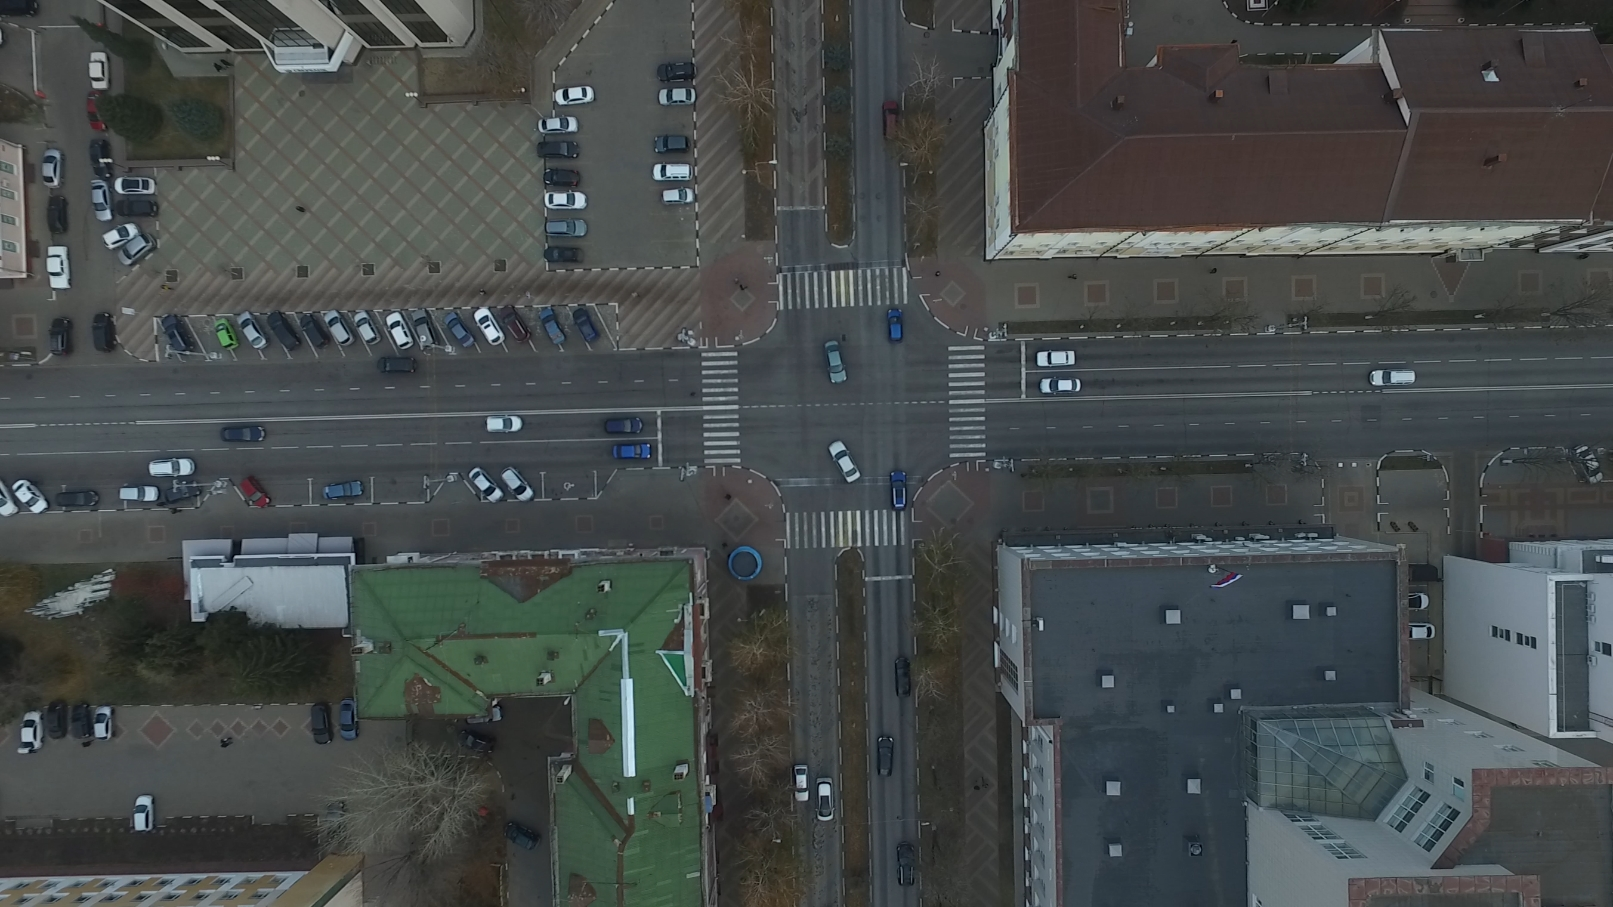car: (156, 313, 196, 355), (471, 307, 511, 347), (826, 437, 860, 483), (469, 465, 510, 502), (268, 310, 304, 352), (323, 307, 359, 347), (237, 312, 273, 352), (117, 231, 157, 266), (45, 244, 74, 290), (17, 478, 52, 515), (497, 307, 531, 346), (409, 309, 439, 351), (442, 309, 476, 346), (102, 218, 138, 252), (325, 801, 352, 845), (538, 307, 568, 348), (237, 474, 273, 508), (309, 698, 335, 745), (384, 310, 417, 348), (503, 820, 542, 851), (458, 730, 497, 760), (655, 56, 701, 82), (504, 468, 538, 503), (350, 310, 383, 346), (92, 312, 119, 355), (89, 177, 115, 220), (39, 147, 66, 188), (823, 338, 847, 384), (1573, 446, 1604, 483), (153, 481, 197, 506), (132, 791, 158, 833), (19, 711, 47, 751), (295, 313, 326, 349), (88, 136, 114, 177), (1367, 368, 1418, 389), (88, 92, 112, 135), (69, 701, 95, 740), (543, 188, 588, 210), (337, 697, 360, 740), (88, 51, 114, 89), (148, 458, 198, 478), (573, 308, 602, 342), (115, 197, 160, 219), (547, 213, 585, 238), (113, 174, 156, 196), (555, 82, 598, 104), (48, 316, 71, 357), (876, 735, 896, 782), (51, 489, 97, 509), (656, 85, 699, 106), (44, 698, 68, 736), (376, 353, 418, 374), (816, 777, 835, 824), (536, 140, 583, 158), (323, 480, 367, 499), (47, 193, 69, 231), (220, 424, 266, 443), (213, 318, 239, 350), (898, 841, 915, 891), (653, 162, 695, 182), (653, 133, 690, 155), (1037, 377, 1083, 394), (91, 708, 115, 741), (543, 167, 583, 187), (880, 97, 898, 140), (537, 114, 579, 133), (792, 762, 812, 801), (888, 470, 906, 513), (543, 245, 586, 262), (659, 185, 697, 205), (887, 305, 905, 347), (606, 418, 645, 436), (484, 414, 522, 433), (1035, 351, 1077, 367), (119, 486, 160, 502), (613, 445, 656, 460), (1, 480, 17, 519), (896, 655, 910, 698), (1406, 623, 1437, 640), (1409, 565, 1438, 583), (1406, 594, 1428, 611)
